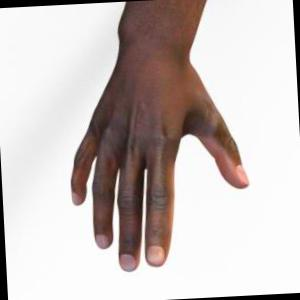paper: (71, 0, 248, 271)
